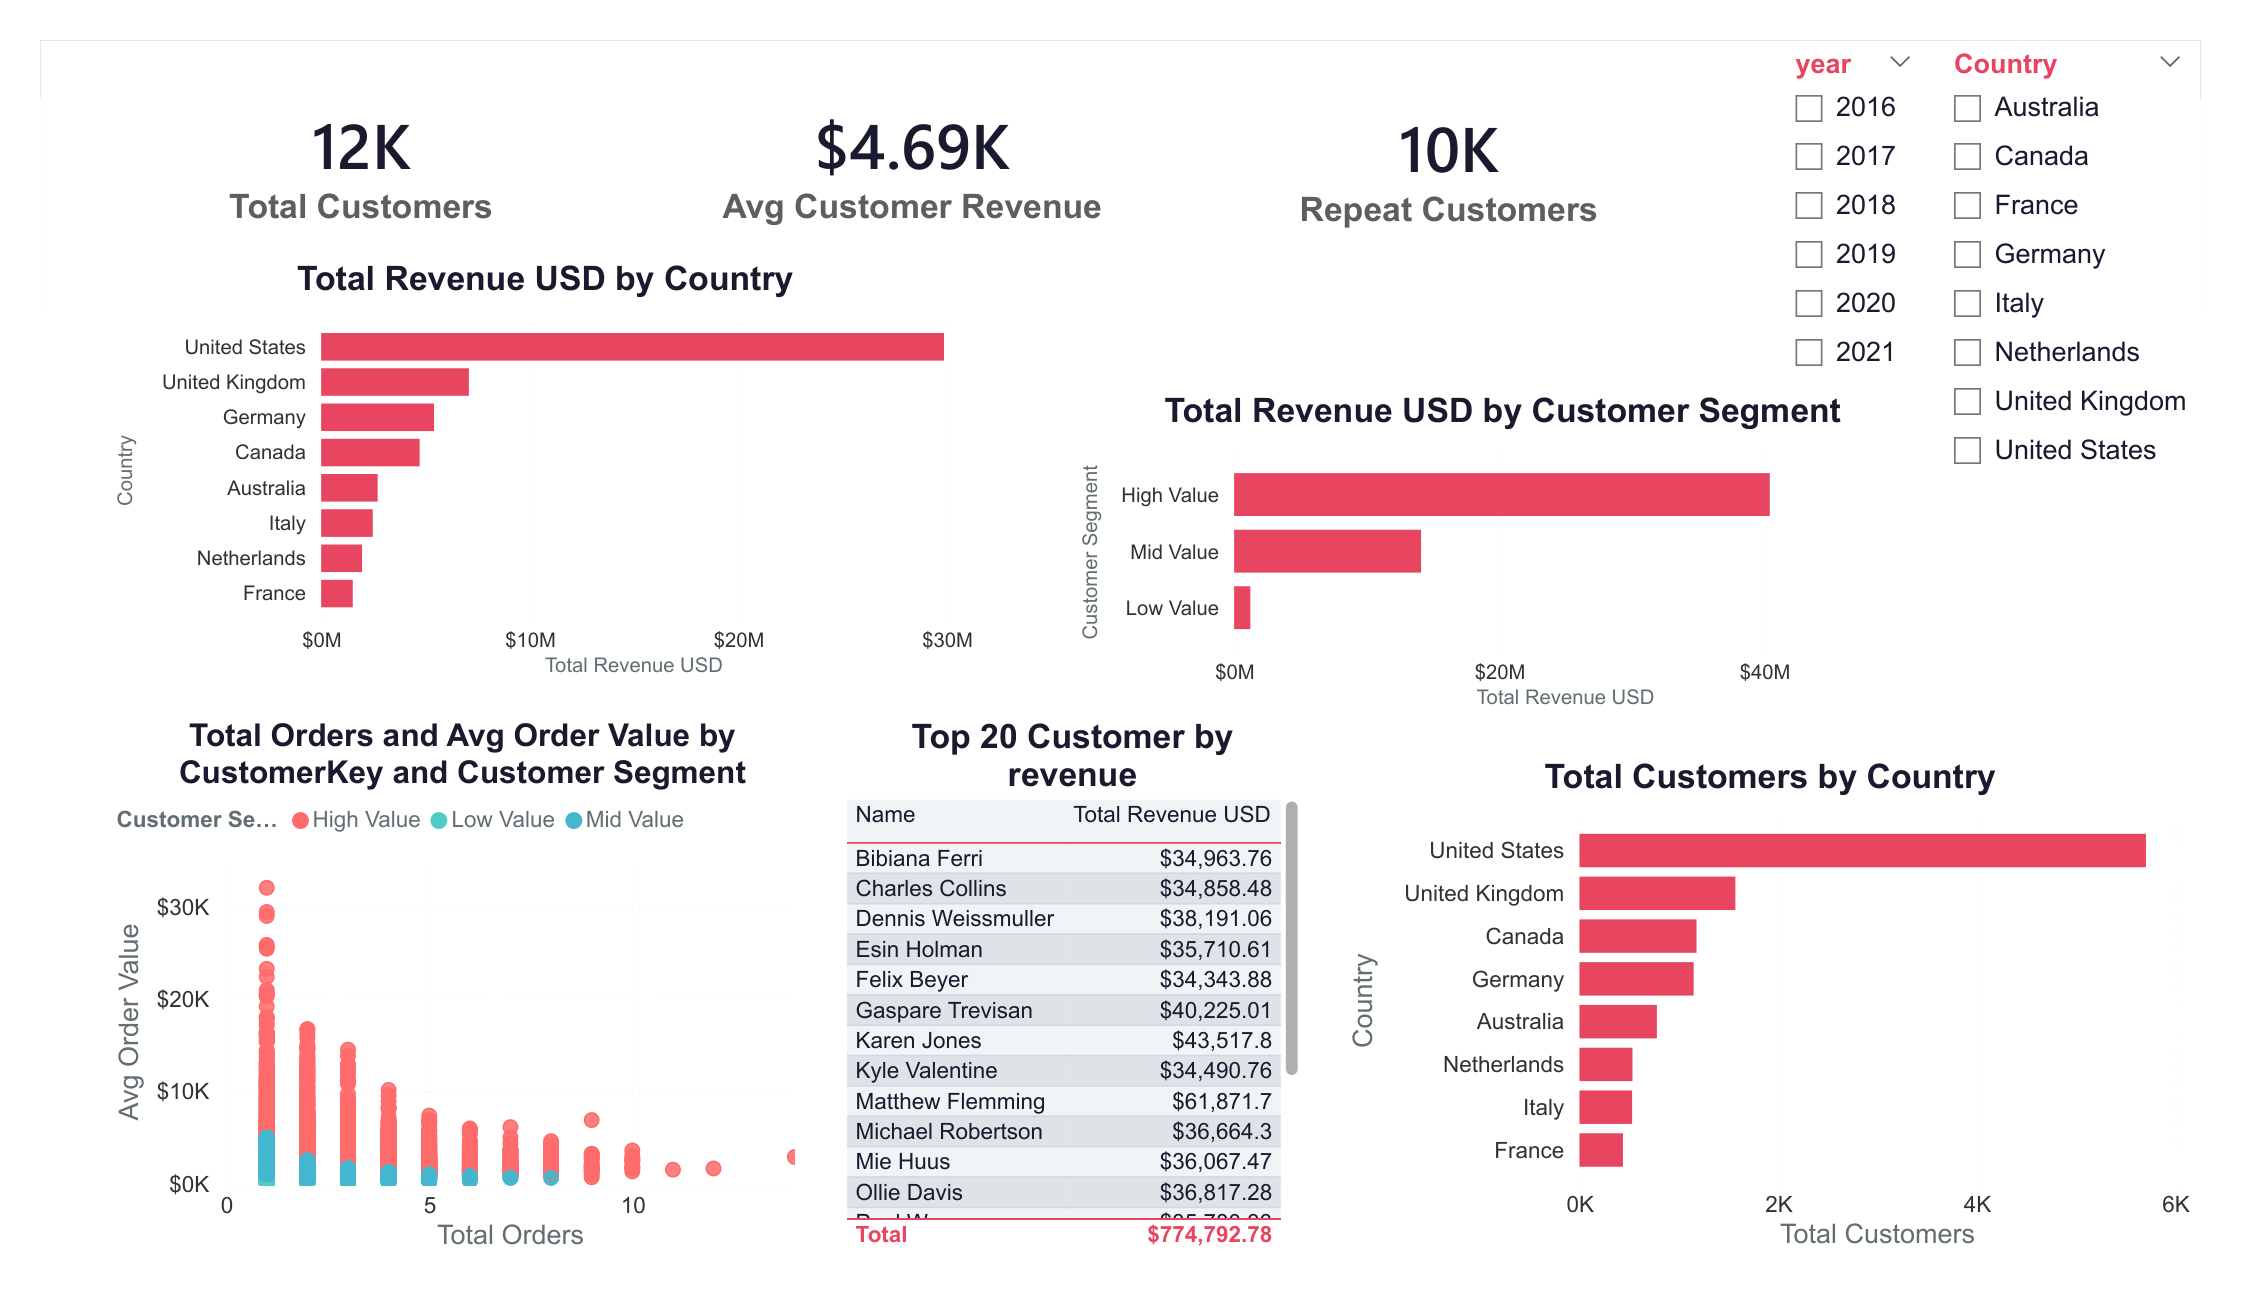

Layout of this report page (visuals, bound fields, positions):
{"tool":"powerbi","page":{"name":"Customer analysis","canvas":[1280,720],"ordinal":3},"visuals":[{"type":"slicer","fields":{"Values":["dim_date.year"]},"box":[1026.6,0,93.9,262.3],"z":0},{"type":"slicer","fields":{"Values":["Customers.Country"]},"box":[1120.5,0,160.3,262.3],"z":1000},{"type":"cardVisual","fields":{"Data":["Table_measure.Total Customers"]},"box":[39.8,15.9,300.6,114.5],"z":2000},{"type":"cardVisual","fields":{"Data":["Table_measure.Repeat Customers"]},"box":[684,15.9,300.6,117.7],"z":3000},{"type":"cardVisual","fields":{"Data":["Table_measure.Avg Customer Revenue"]},"box":[367.4,15.9,299,114.5],"z":4000},{"type":"clusteredBarChart","fields":{"Y":["Table_measure.Total Revenue USD"],"Category":["Customers.Country"]},"box":[39.8,130.4,518.5,251.3],"z":5000},{"type":"tableEx","title":"Top 20 Customer by revenue","fields":{"Values":["Customers.Name","Table_measure.Total Revenue USD"]},"box":[472.4,400.8,278.4,319.7],"z":6000},{"type":"clusteredBarChart","fields":{"Category":["Customers.Country"],"Y":["Table_measure.Total Customers"]},"box":[771.4,424.7,507.4,295.9],"z":7000},{"type":"scatterChart","fields":{"Category":["Customers.CustomerKey"],"X":["Table_measure.Total Orders"],"Y":["Table_measure.Avg Order Value"],"Series":["Customers.Customer Segment"]},"box":[39.8,400.8,419.9,319.7],"z":8000},{"type":"clusteredBarChart","fields":{"Category":["Customers.Customer Segment"],"Y":["Table_measure.Total Revenue USD"]},"box":[612.4,208.4,509,192.5],"z":9000}]}

Visuals, with their boxes in screenshot pixels (x1, y1, x2, y2), scaled from the page's 1280x720 canvas onto the 2241x1296 screenshot:
slicer - dim_date.year: BBox(1797, 0, 1962, 472)
slicer - Customers.Country: BBox(1962, 0, 2240, 472)
cardVisual - Table_measure.Total Customers: BBox(70, 29, 596, 235)
cardVisual - Table_measure.Repeat Customers: BBox(1198, 29, 1724, 240)
cardVisual - Table_measure.Avg Customer Revenue: BBox(643, 29, 1167, 235)
clusteredBarChart - Table_measure.Total Revenue USD x Customers.Country: BBox(70, 235, 977, 687)
"Top 20 Customer by revenue" tableEx: BBox(827, 721, 1314, 1295)
clusteredBarChart - Customers.Country x Table_measure.Total Customers: BBox(1351, 764, 2239, 1295)
scatterChart - Customers.CustomerKey x Table_measure.Total Orders: BBox(70, 721, 805, 1295)
clusteredBarChart - Customers.Customer Segment x Table_measure.Total Revenue USD: BBox(1072, 375, 1963, 722)
